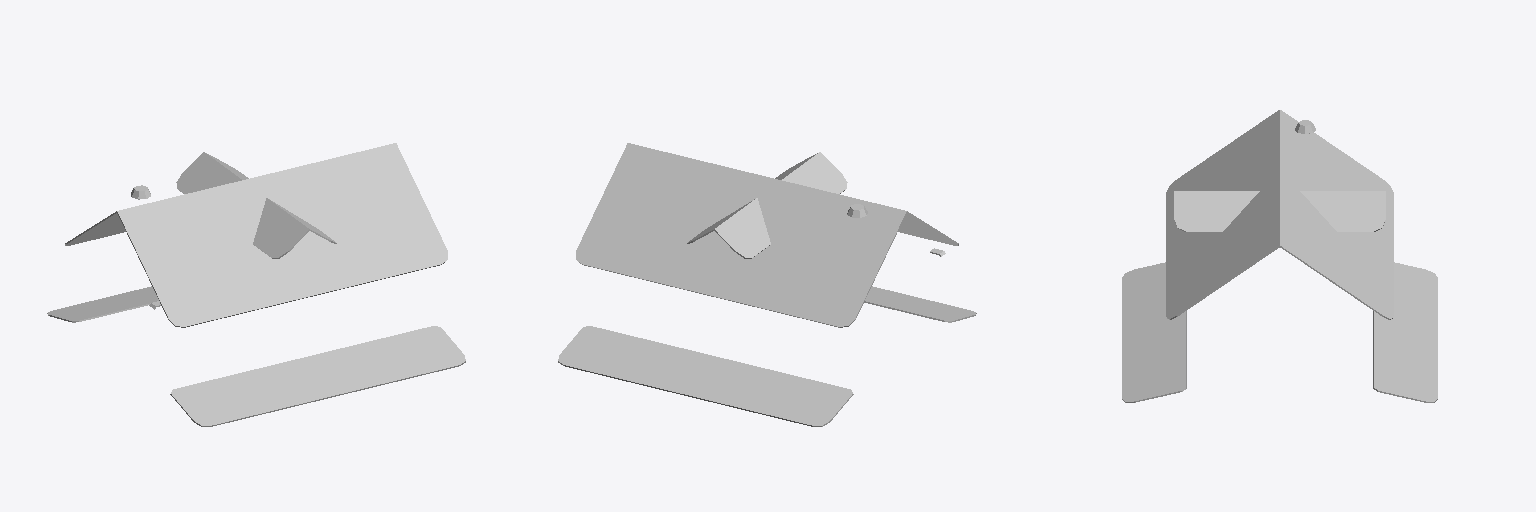
The model's file is building-type-t_roof.obj.
3 renders of one model, left to right at view 1: azimuth 30°, elevation 25°; view 2: azimuth 150°, elevation 25°; view 3: azimuth 270°, elevation 25°, orthographic.
Visible parts, largest first — view 1: building-type-t.001; view 2: building-type-t.001; view 3: building-type-t.001.
Boxes of the visible parts, x1=… form: building-type-t.001: x1=47, y1=143, x2=465, y2=426; building-type-t.001: x1=558, y1=143, x2=976, y2=426; building-type-t.001: x1=1122, y1=110, x2=1437, y2=402.
Bounding box in the file's own units: 1.31 × 0.7405 × 1.27.